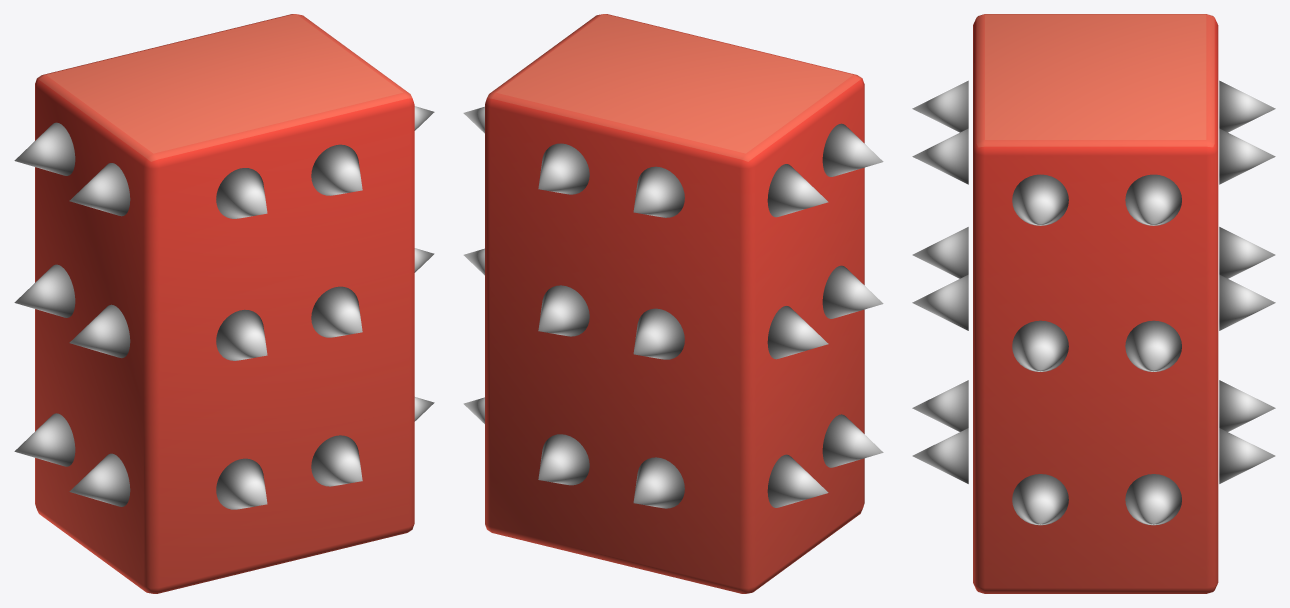
File: Spike.fbx
3 renders of one model, left to right at view 1: azimuth 30°, elevation 25°; view 2: azimuth 150°, elevation 25°; view 3: azimuth 270°, elevation 25°, orthographic. The views are drawn at different scales.
Parts seen in each view (by area): view 1: Trap1.008; view 2: Trap1.008; view 3: Trap1.008.
Part boxes in pixels (x1,y1,x2,y2): Trap1.008: (14,14,434,593); Trap1.008: (463,14,883,593); Trap1.008: (912,14,1275,593).
Bounding box in the file's own units: 277 × 319 × 232.
